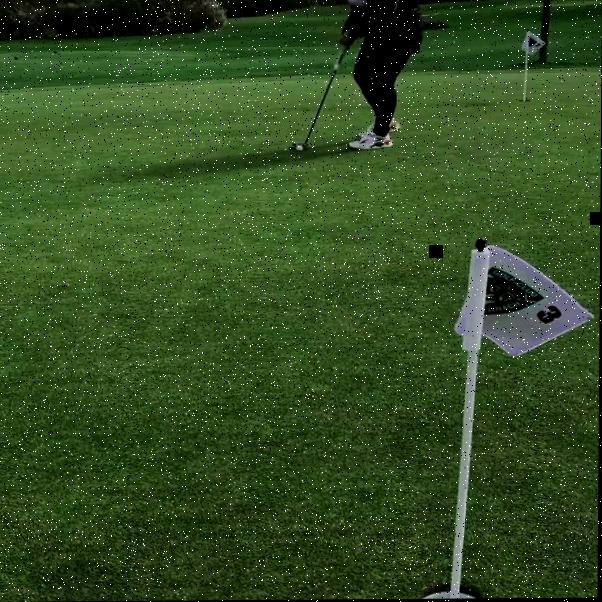ClubHead: (293, 140, 307, 147)
GolfBall: (298, 147, 304, 151)
